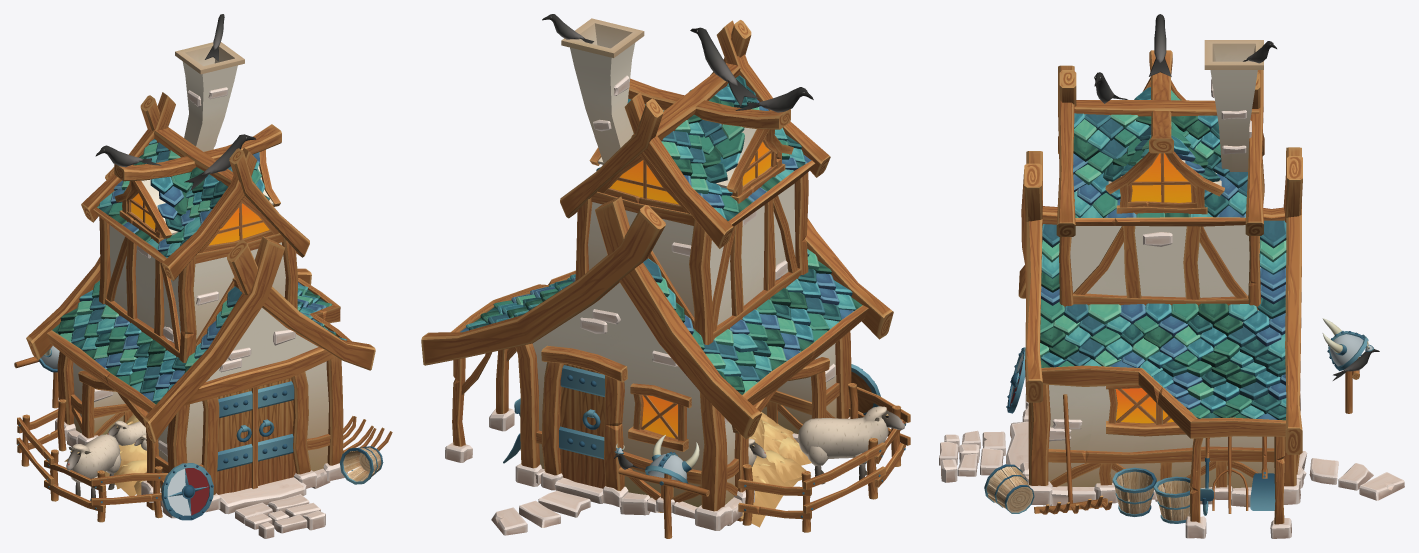
File: CasaNew.glb
3 renders of one model, left to right at view 1: azimuth 30°, elevation 25°; view 2: azimuth 150°, elevation 25°; view 3: azimuth 270°, elevation 25°, orthographic. The views are drawn at different scales.
Parts seen in each view (by area): view 1: HouseProps_geo_01_M_HouseProps_0.2239, HouseProps_geo_01_M_HouseProps_0.1061; view 2: HouseProps_geo_01_M_HouseProps_0.2239; view 3: HouseProps_geo_01_M_HouseProps_0.2239, HouseProps_geo_01_M_HouseProps_0.1061.
Boxes of the visible parts, x1,y1,x2,y2 form: HouseProps_geo_01_M_HouseProps_0.2239: (14, 14, 392, 522); HouseProps_geo_01_M_HouseProps_0.1061: (219, 477, 303, 504); HouseProps_geo_01_M_HouseProps_0.2239: (421, 14, 910, 538); HouseProps_geo_01_M_HouseProps_0.2239: (984, 14, 1404, 538); HouseProps_geo_01_M_HouseProps_0.1061: (1008, 421, 1028, 467).
Size of the model in its own units: 628 by 745 by 676.
Materials: 2 (2 with a texture image).
